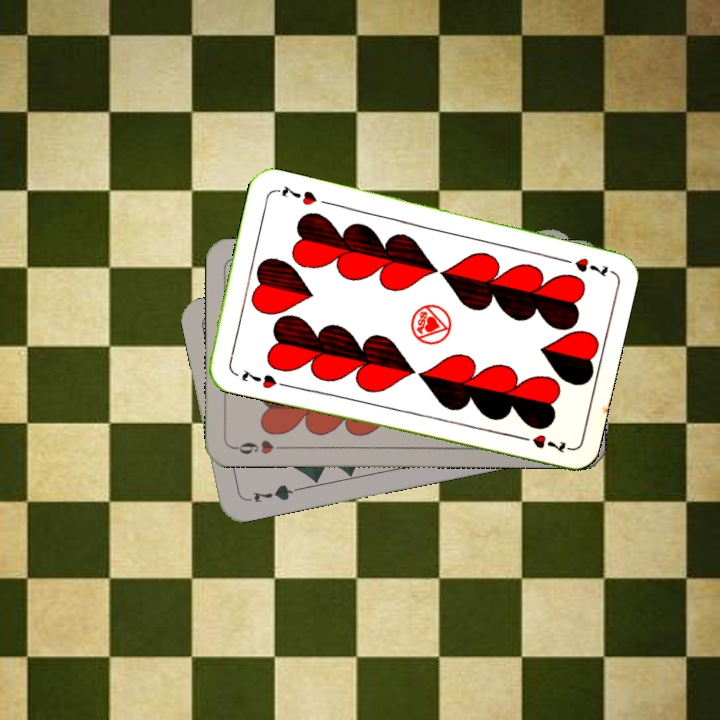G7: (242, 480, 301, 506)
H7: (555, 254, 611, 280), (237, 366, 280, 391)
H9: (230, 436, 289, 457)
